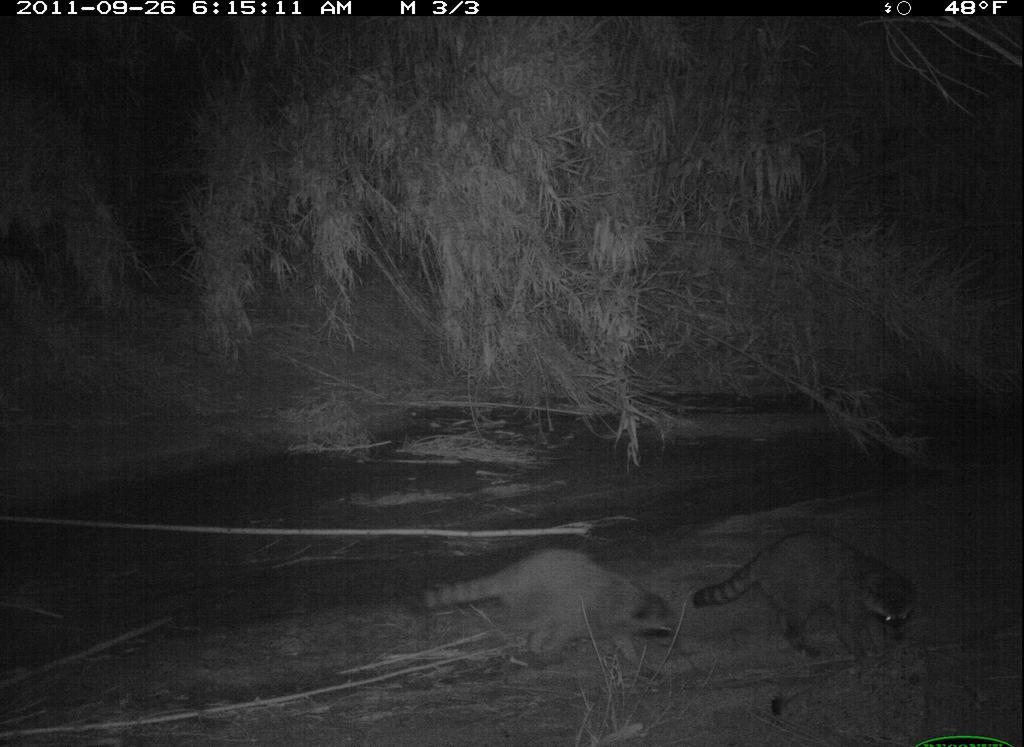raccoon: (694, 524, 935, 674), (438, 541, 681, 666)
